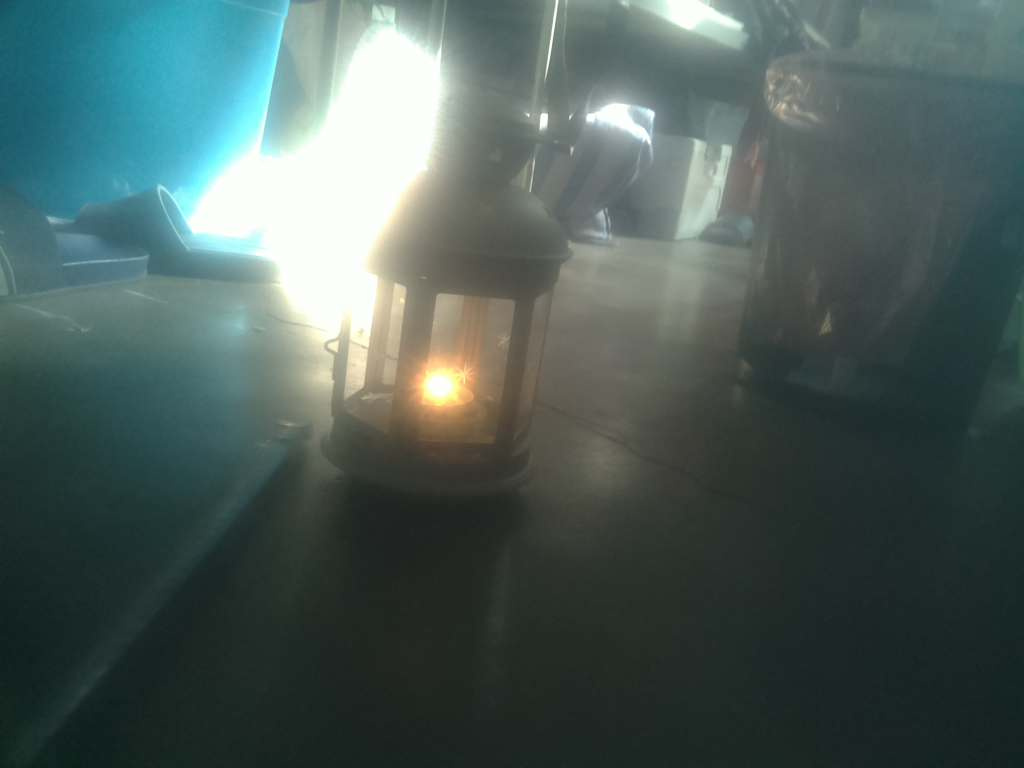fire: (412, 349, 490, 427)
